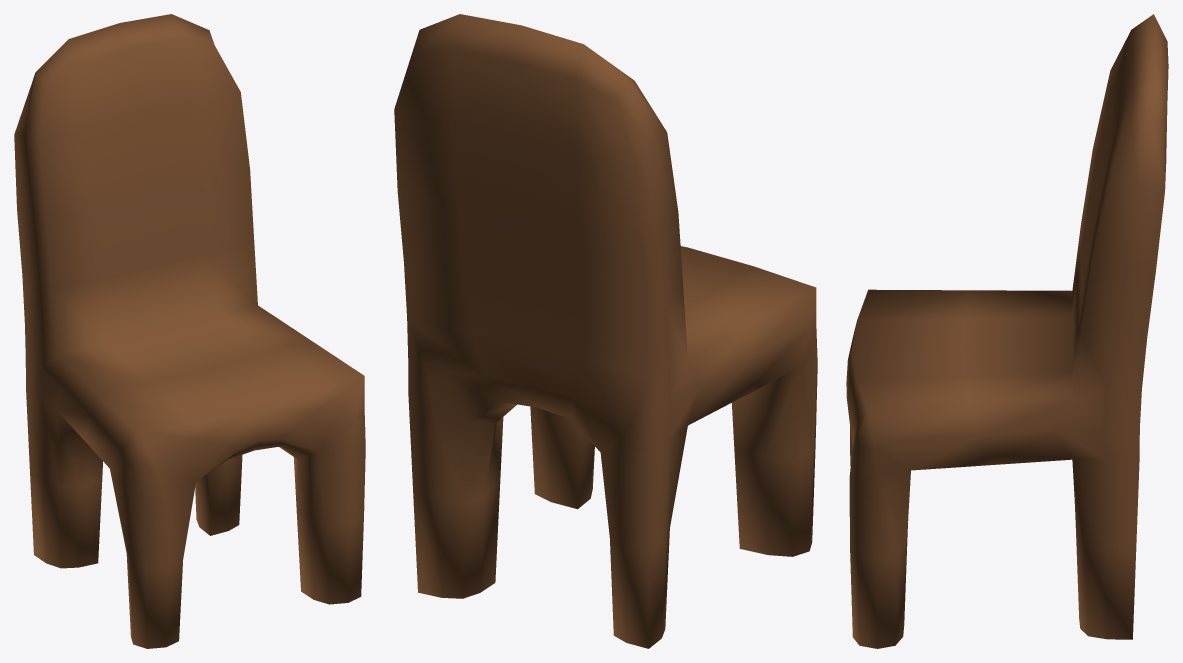
File: Chair.fbx
The picture shows the model from 3 angles, left to right: view 1: azimuth 30°, elevation 25°; view 2: azimuth 150°, elevation 25°; view 3: azimuth 270°, elevation 25°; orthographic projection. The views are drawn at different scales.
Parts seen in each view (by area): view 1: Chair; view 2: Chair; view 3: Chair.
Boxes of the visible parts, <box> form: Chair: <box>14,14,365,648</box>; Chair: <box>394,14,817,648</box>; Chair: <box>846,14,1168,648</box>.
Size of the model in its own units: 75.59 by 150 by 79.46.
